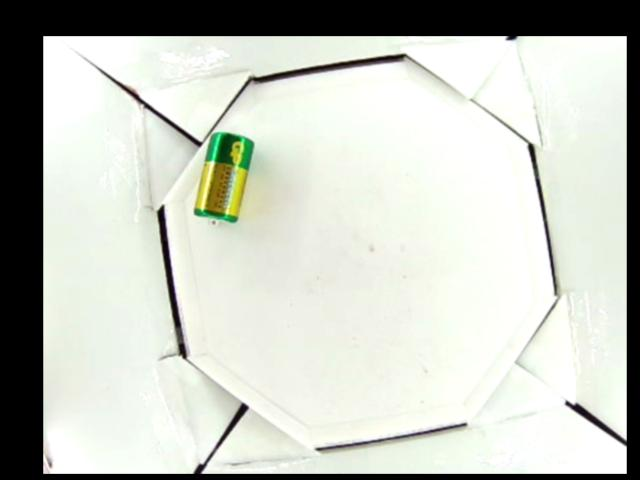Battery: (193, 131, 253, 227)
